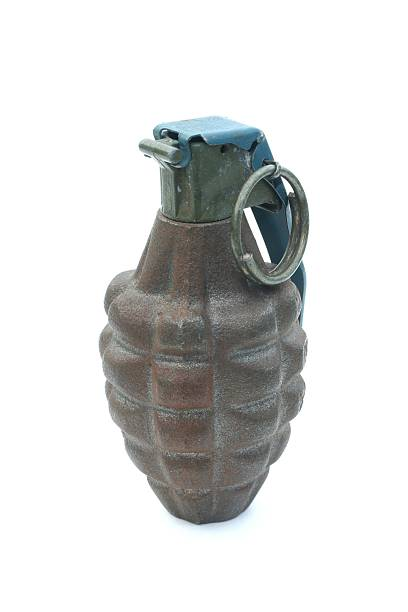e1: (100, 117, 315, 532)
